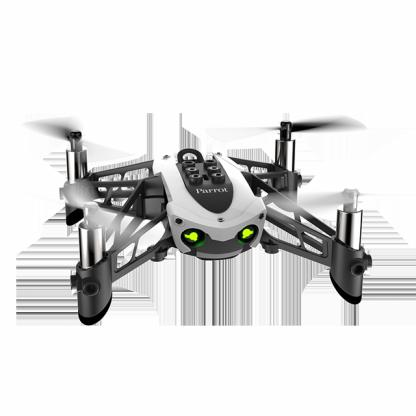drone: (13, 98, 416, 316)
